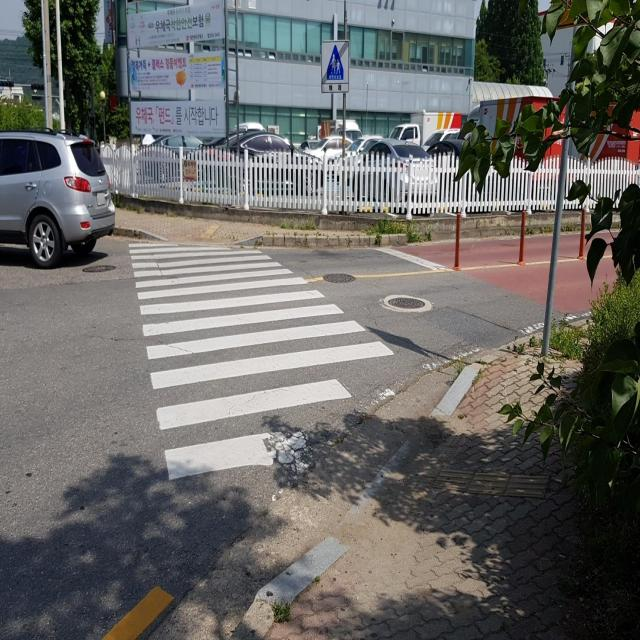횡단보도: (126, 238, 397, 485)
